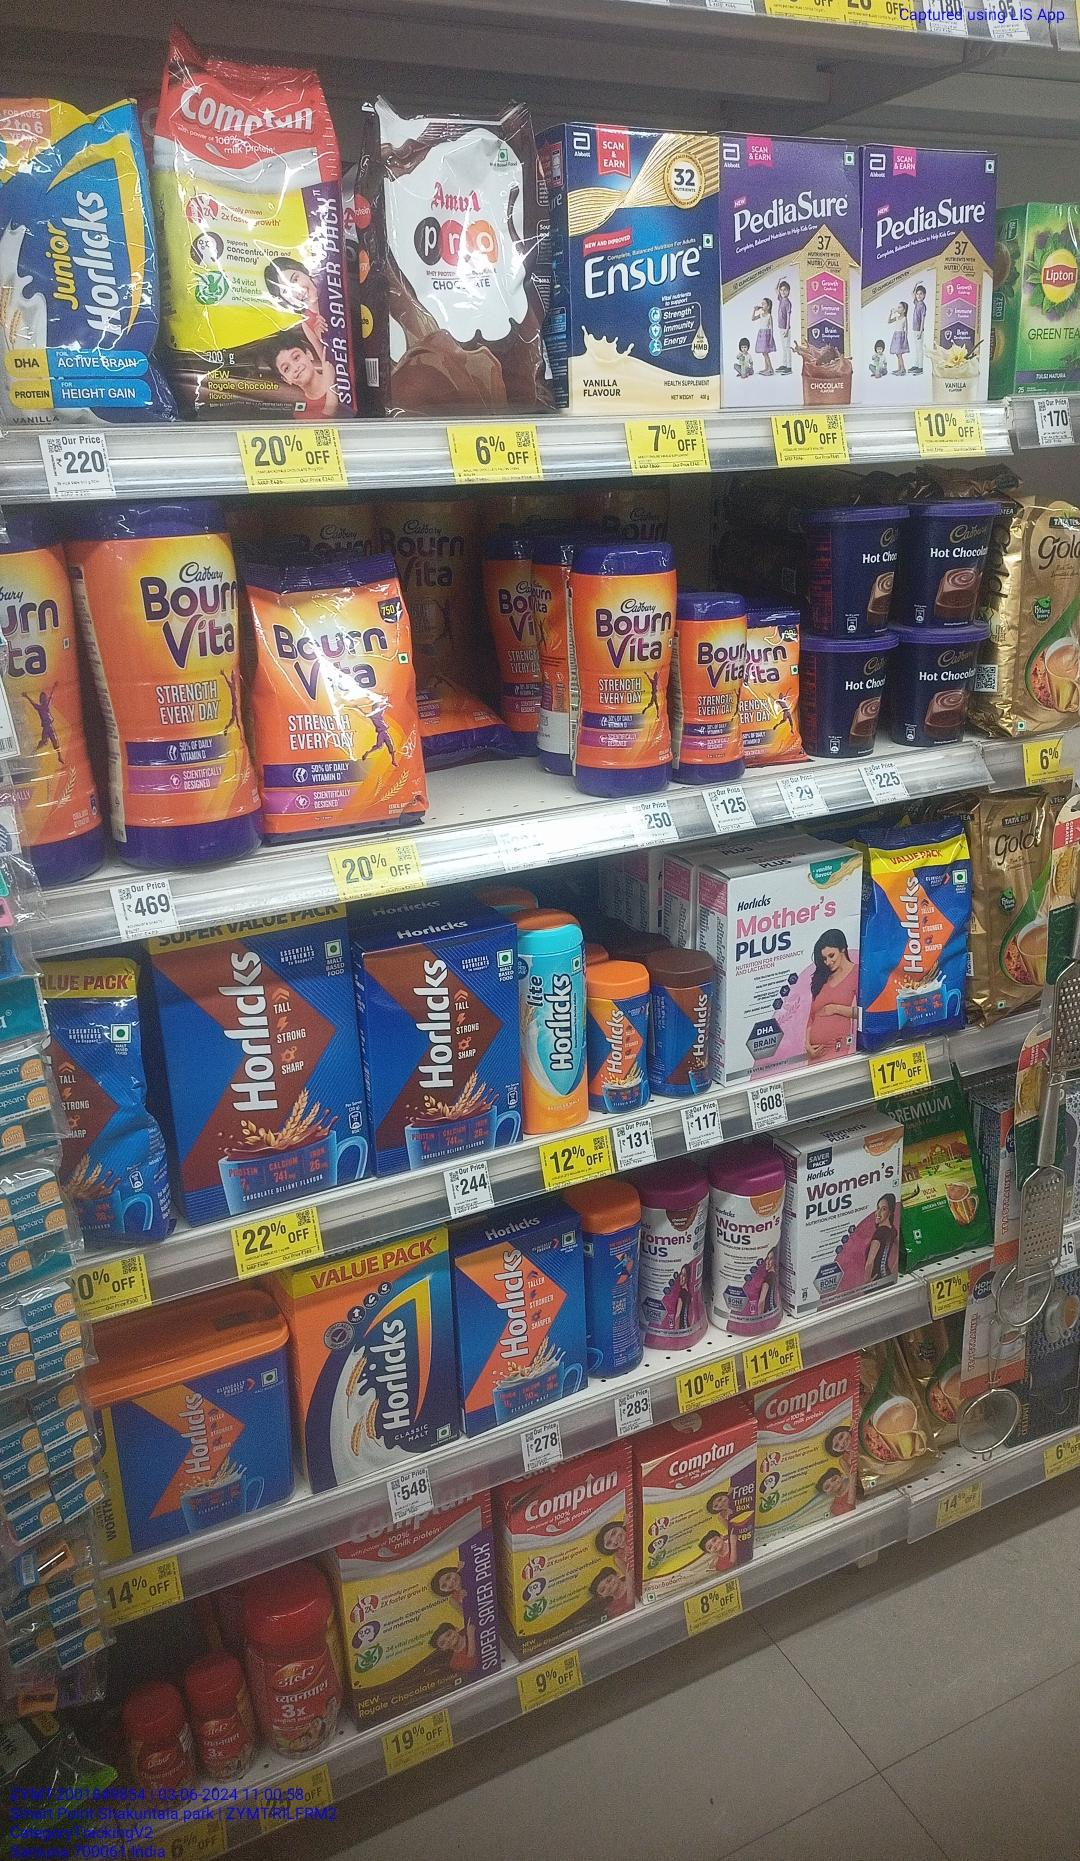BOURN_VITA_75_G_POUCH: (738, 613, 807, 769)
ENSURE_VANILLA_400_G_PACK: (563, 121, 720, 410)
HORLICKS_LITE_REGULAR_MALT_500_GM_JAR: (525, 913, 591, 1130)
HORLICK_CHOCOLATE_500_G_PACK: (456, 1215, 586, 1429)
HORLICK_MALT_1_KG_CONTAINER: (81, 1333, 296, 1555)
PEDIASURE_CHOCOLATE_500_G_PACK: (725, 134, 860, 405)
PEDIASURE_VANILLA_500_G_PACK: (867, 144, 995, 400)
